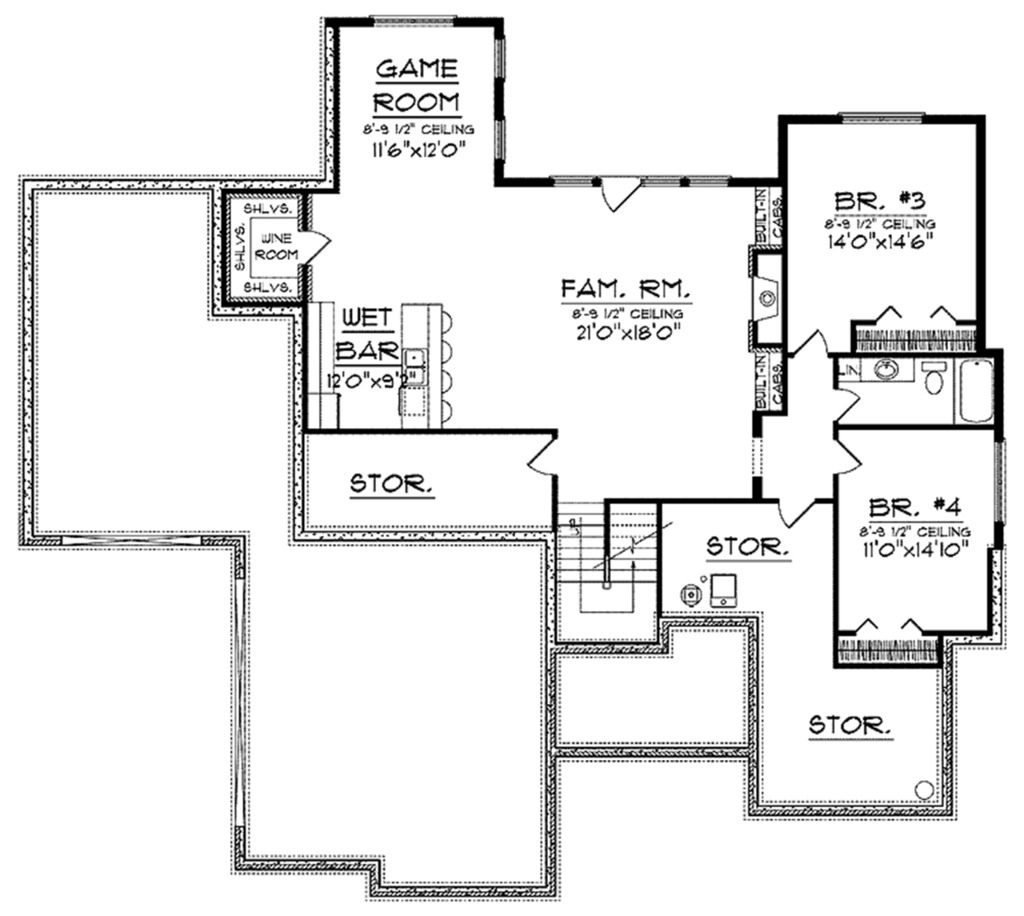door: (291, 222, 341, 276), (526, 433, 566, 487), (593, 173, 645, 212), (829, 437, 863, 480), (790, 329, 834, 356), (779, 497, 815, 529), (830, 386, 861, 422)
kitchen_bar: (394, 291, 462, 426)
large_sink: (912, 355, 950, 402)
small_sink: (855, 356, 908, 386)
stairs: (550, 501, 665, 636)
tub: (952, 355, 994, 426)
window: (373, 8, 458, 31), (483, 116, 518, 161), (834, 111, 922, 124), (488, 34, 513, 79), (550, 172, 584, 188)
